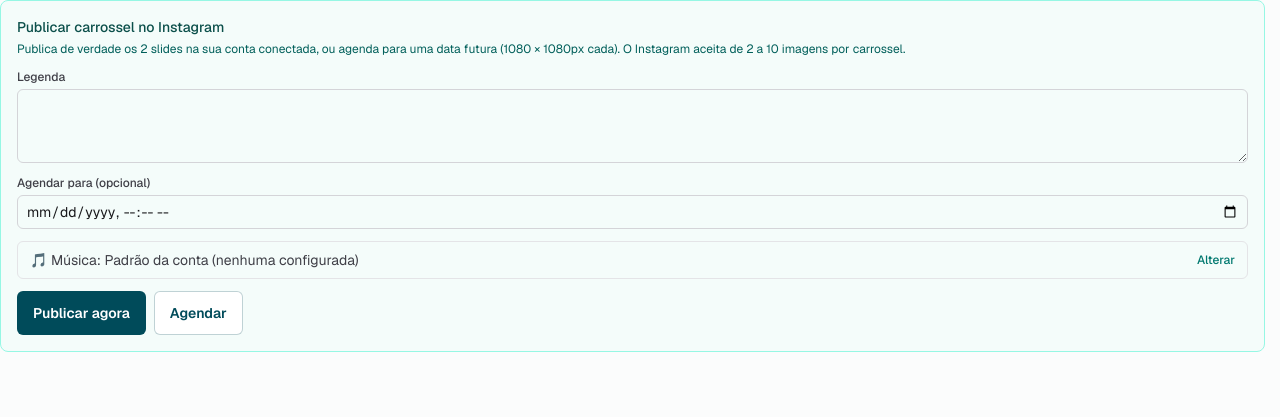
CarouselPublishPanel › mostra a mensagem de erro do servidor quando a criação do post falha
Click the button "Publicar agora" at (81, 313), box [17, 291, 146, 335]
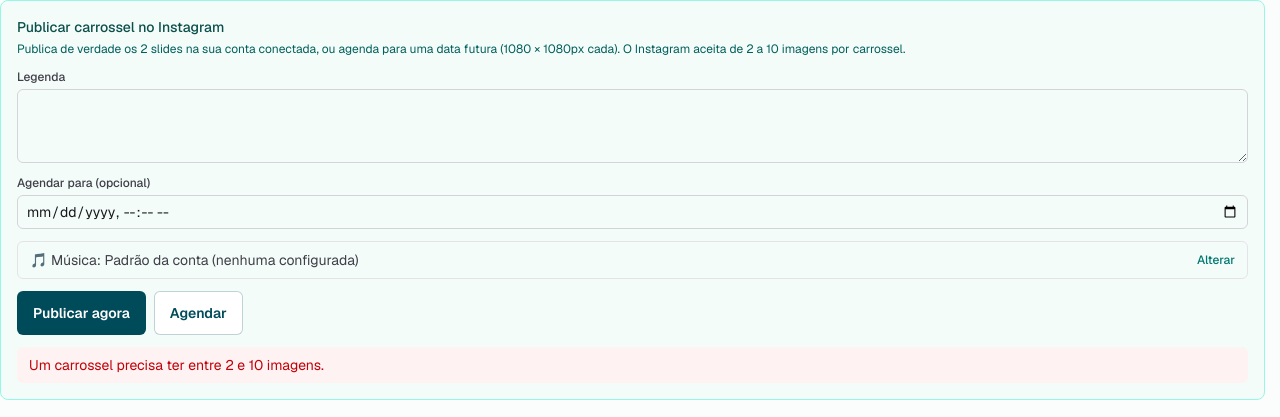
Now the message reads "Um carrossel precisa ter entre 2 e 10 imagens.", box [29, 356, 324, 374]
